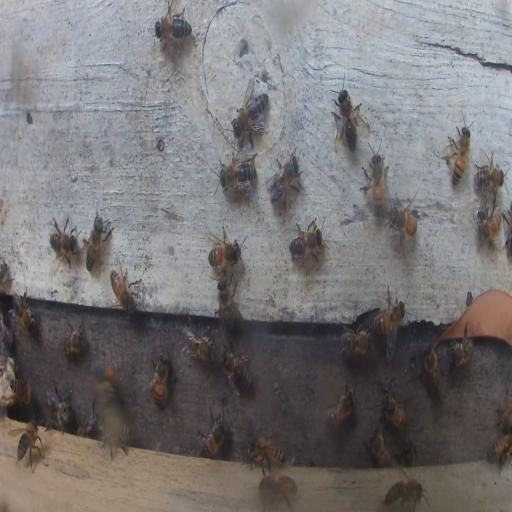nonpollenbee: (232, 81, 269, 148), (332, 80, 362, 154), (267, 152, 302, 207), (385, 193, 419, 249), (48, 212, 81, 269), (84, 210, 112, 275), (362, 146, 388, 215), (447, 120, 472, 189), (206, 226, 243, 272), (156, 4, 192, 50), (289, 218, 324, 263), (324, 383, 356, 432), (109, 267, 140, 317), (218, 152, 256, 192), (14, 418, 42, 472), (473, 150, 505, 197), (383, 476, 428, 509), (246, 435, 286, 472), (374, 292, 406, 337), (196, 413, 226, 458), (219, 349, 251, 391), (182, 324, 216, 362), (423, 343, 446, 398), (217, 278, 240, 332), (261, 474, 298, 507), (486, 430, 512, 474), (45, 391, 73, 430), (476, 207, 504, 246), (149, 353, 169, 407), (367, 425, 392, 468), (381, 391, 407, 431), (339, 328, 373, 358), (11, 291, 36, 331), (77, 400, 102, 437), (446, 332, 473, 366), (62, 319, 86, 357), (496, 383, 510, 435), (6, 375, 30, 403), (0, 312, 16, 352), (402, 441, 417, 468), (0, 260, 10, 292)
pollenbee: (91, 357, 118, 399)
